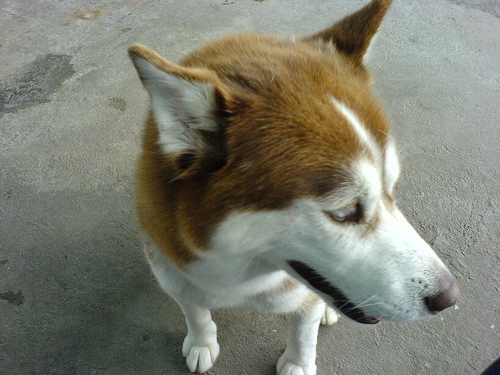dog: (103, 3, 478, 374)
